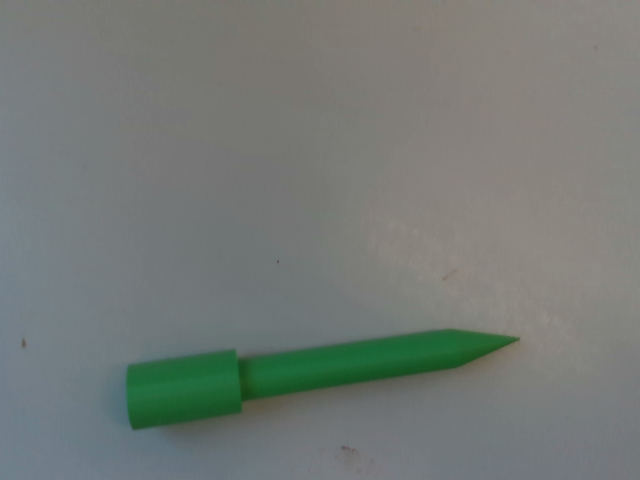Probe: (121, 320, 526, 438)
